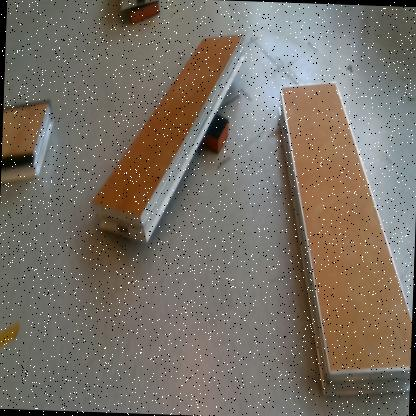Stairs: (279, 78, 413, 399), (91, 33, 246, 251), (2, 102, 56, 186), (120, 1, 160, 17)
